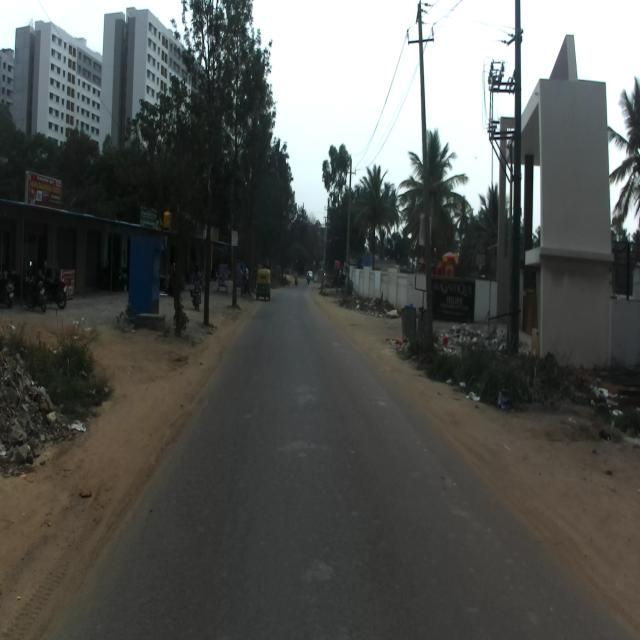electric pole ahead at: (404, 0, 447, 336), (501, 0, 534, 358)
